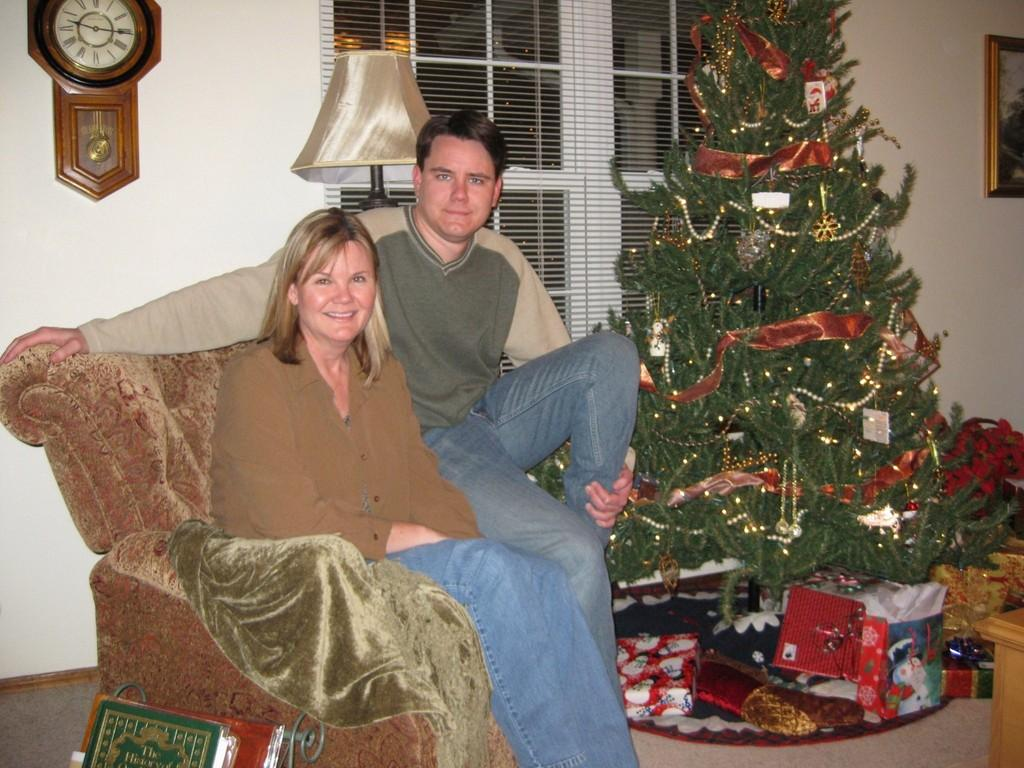Luggage-and-bags: (769, 568, 947, 723)
